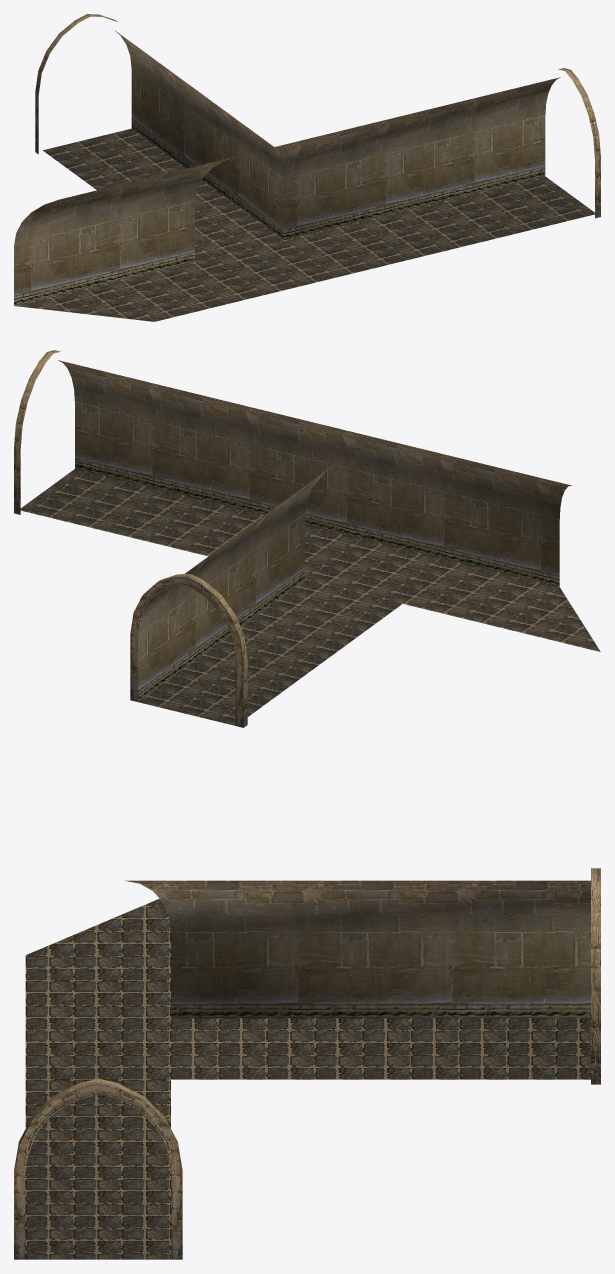
Rendered from M7Z1_Tunnel1.glb.
3 renders of one model, top to bottom at view 1: azimuth 30°, elevation 25°; view 2: azimuth 150°, elevation 25°; view 3: azimuth 270°, elevation 25°, orthographic. The views are drawn at different scales.
Parts seen in each view (by area): view 1: M7Z1_TUNNEL1; view 2: M7Z1_TUNNEL1; view 3: M7Z1_TUNNEL1.
Part boxes in pixels (left/top/right/bottom): M7Z1_TUNNEL1: left=14, top=14, right=600, bottom=321; M7Z1_TUNNEL1: left=14, top=350, right=600, bottom=727; M7Z1_TUNNEL1: left=14, top=868, right=600, bottom=1259.
Size of the model in its own units: 17.65 by 3.98 by 11.96.
4 materials, 4 textured.
